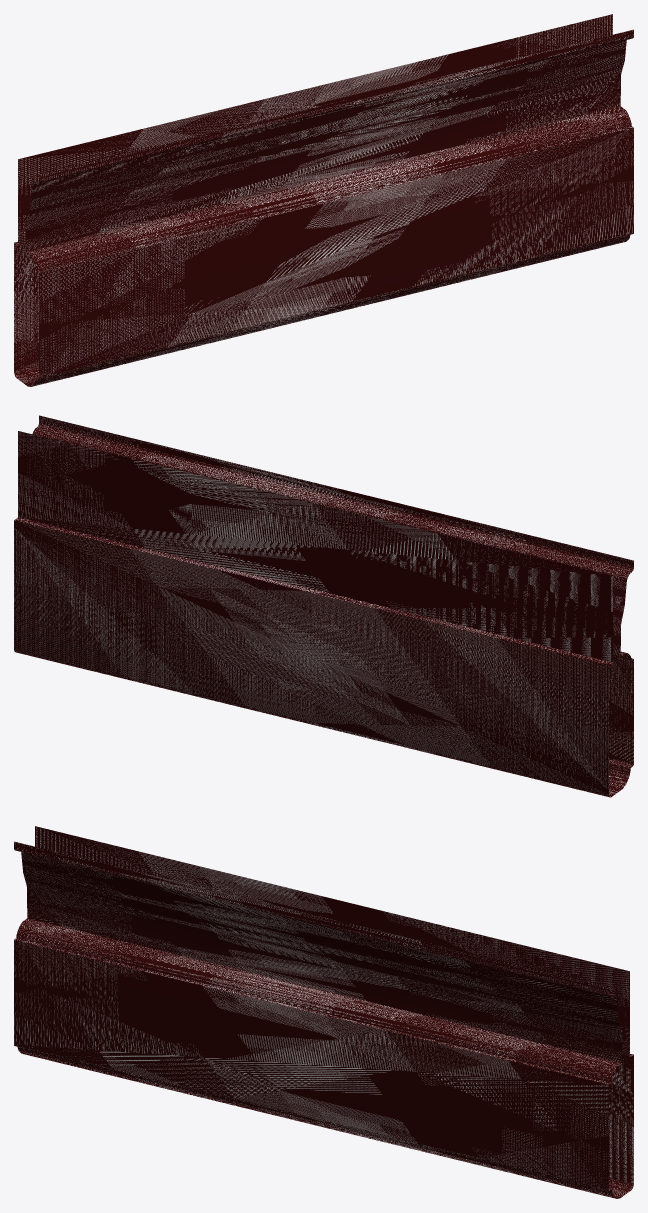
File: original-43.obj
3 renders of one model, top to bottom at view 1: azimuth 30°, elevation 25°; view 2: azimuth 150°, elevation 25°; view 3: azimuth 330°, elevation 25°, orthographic.
Visible parts, largest first — view 1: LT_11_BC1/LT_11_BC/mesh34/mesh34-geometry#mesh34-geometry; view 2: LT_11_BC1/LT_11_BC/mesh34/mesh34-geometry#mesh34-geometry; view 3: LT_11_BC1/LT_11_BC/mesh34/mesh34-geometry#mesh34-geometry.
Part boxes in pixels (x1,y1,x2,y2): LT_11_BC1/LT_11_BC/mesh34/mesh34-geometry#mesh34-geometry: (14, 14, 633, 386); LT_11_BC1/LT_11_BC/mesh34/mesh34-geometry#mesh34-geometry: (14, 415, 633, 797); LT_11_BC1/LT_11_BC/mesh34/mesh34-geometry#mesh34-geometry: (14, 826, 633, 1198).
Size of the model in its own units: 0.3889 by 0.1375 by 0.0285.
